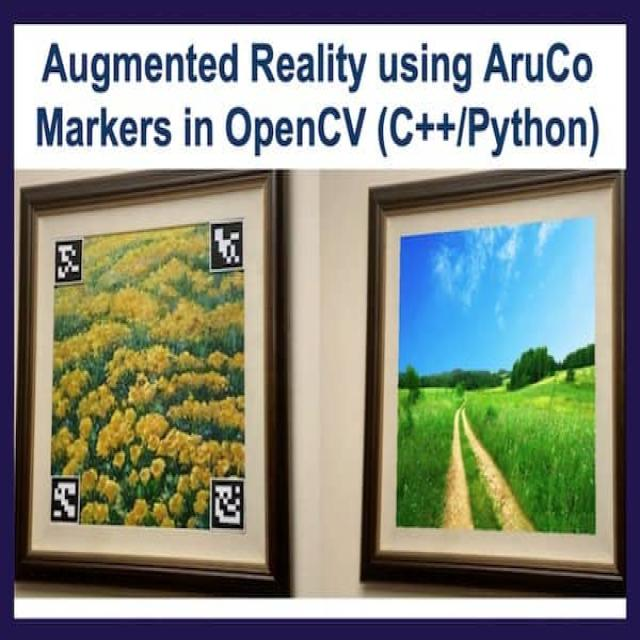aruco: (208, 464, 248, 536), (207, 214, 246, 278), (46, 473, 84, 528), (53, 229, 85, 289)
